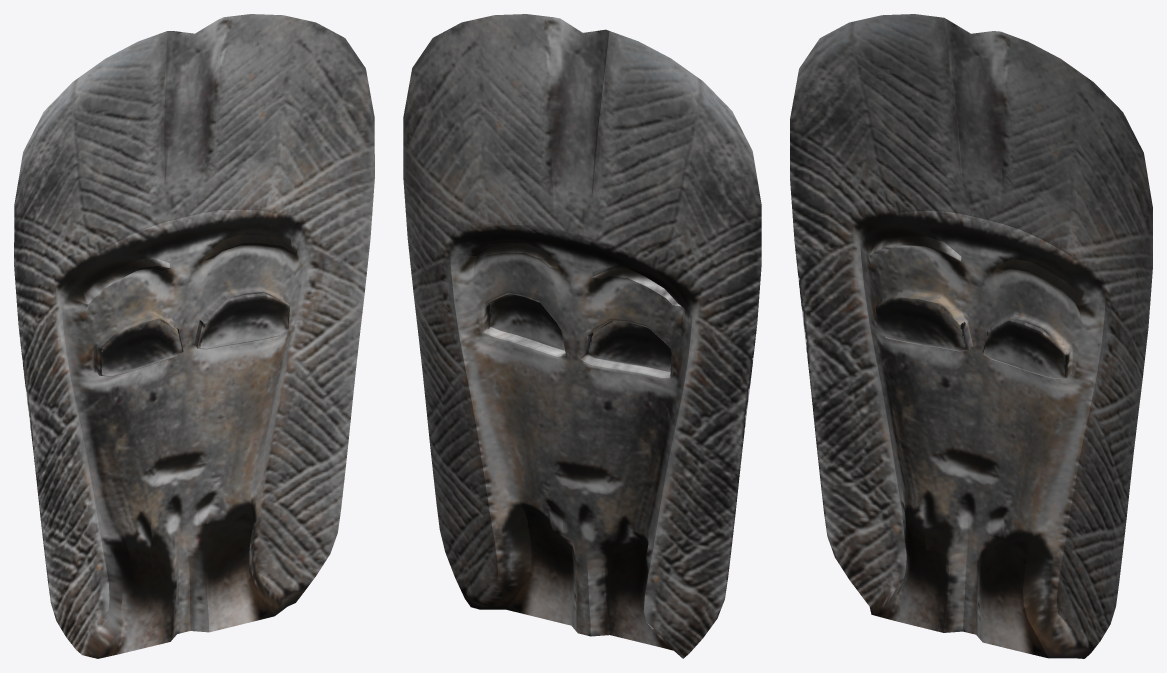
Rendered from mascara valdivia 2.fbx.
3 renders of one model, left to right at view 1: azimuth 30°, elevation 25°; view 2: azimuth 150°, elevation 25°; view 3: azimuth 330°, elevation 25°, orthographic.
Parts seen in each view (by area): view 1: mascara valdivia 2; view 2: mascara valdivia 2; view 3: mascara valdivia 2.
Part boxes in pixels (bbox=[...]): mascara valdivia 2: bbox=[14, 14, 374, 658]; mascara valdivia 2: bbox=[403, 14, 761, 658]; mascara valdivia 2: bbox=[790, 14, 1152, 658].
Bounding box in the file's own units: 13.74 × 0.8888 × 22.19.
1 material, 1 textured.
